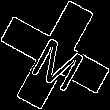M_NE: (22, 22, 88, 88)
